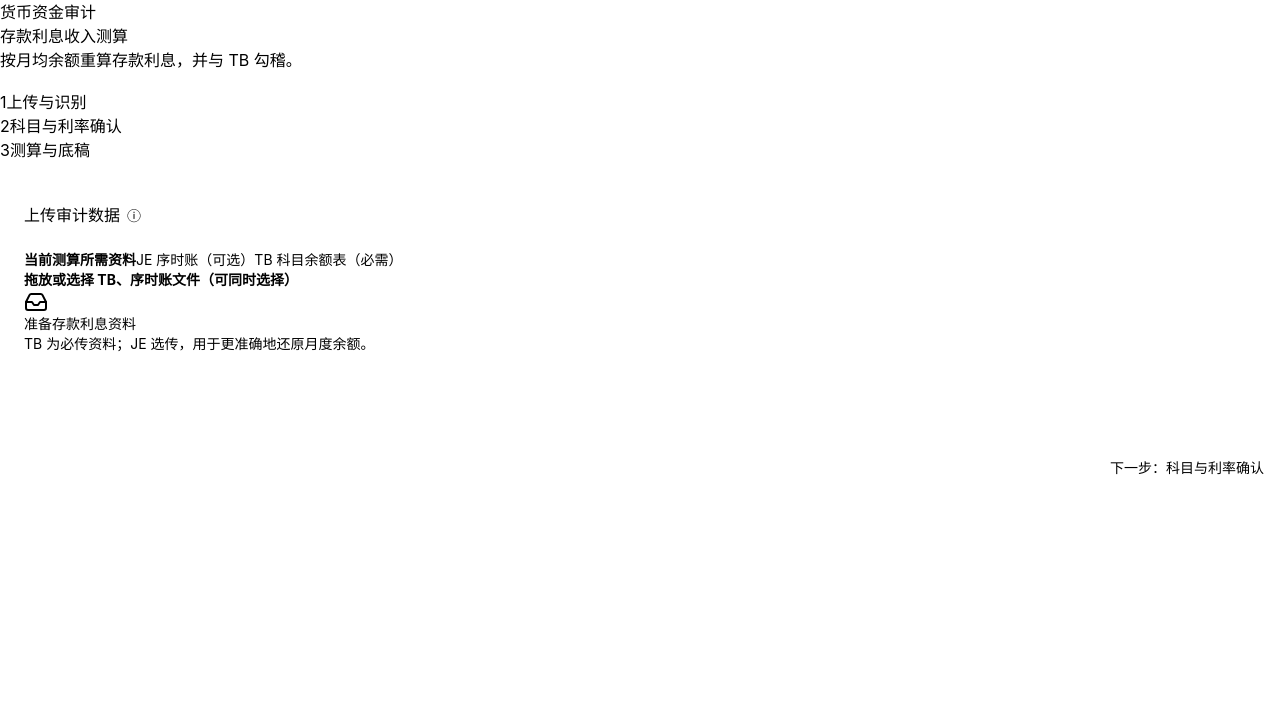
Scenario: 官方利率查询入口 › 引擎不可用时给出说明而不是空白
Click the button "2科目与利率确认". click: (61, 126)
box: [0, 114, 122, 138]
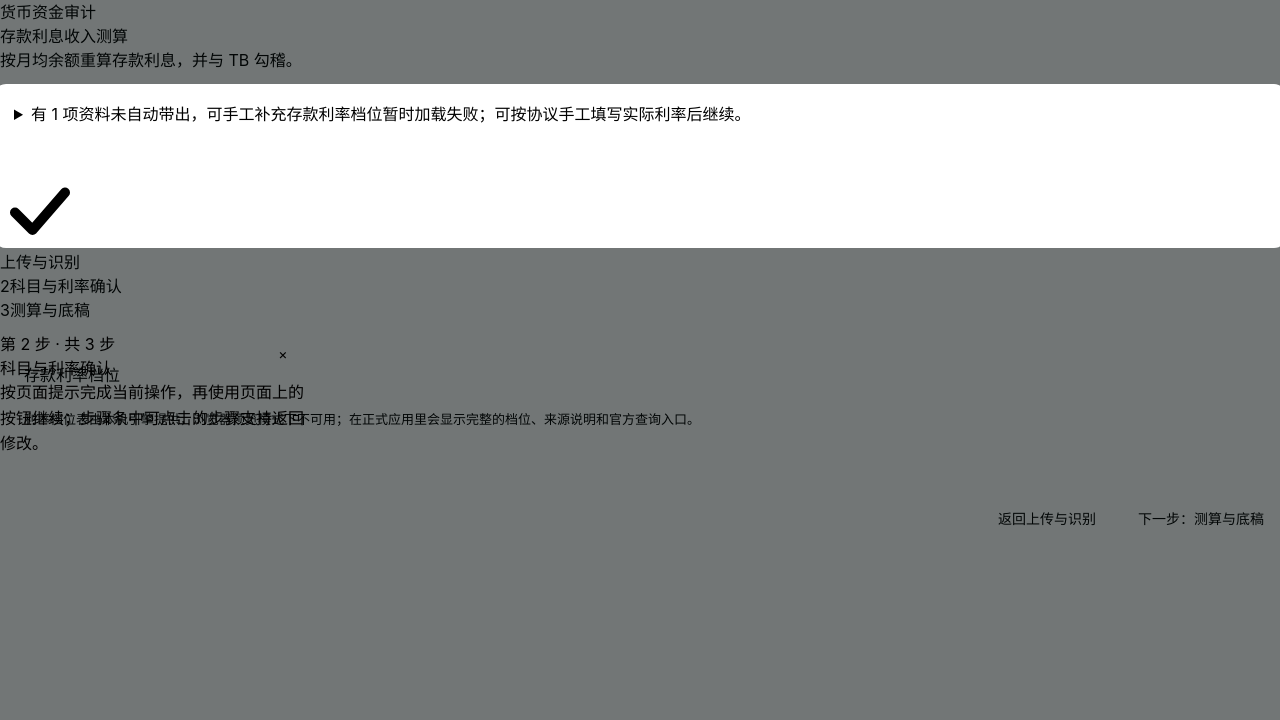
Now the text "利率档位表由本机引擎提供，浏览器预览模式下不可用；在正式应用里会显示完整的档位、来源说明和官方查询入口。" is shown, box [24, 411, 700, 427]
